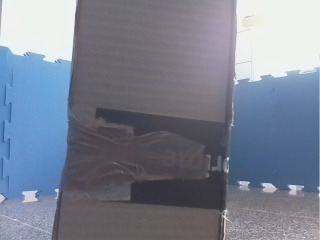caja: (80, 1, 220, 240)
